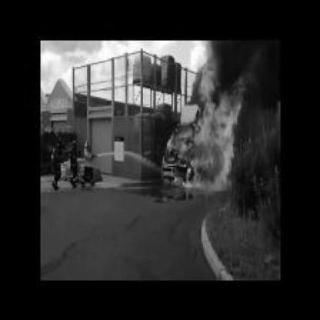Smoke: (205, 36, 277, 76)
